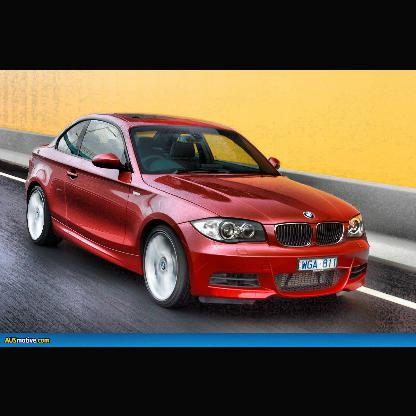BMW 1 Series Coupe 2012: (24, 113, 372, 314)
